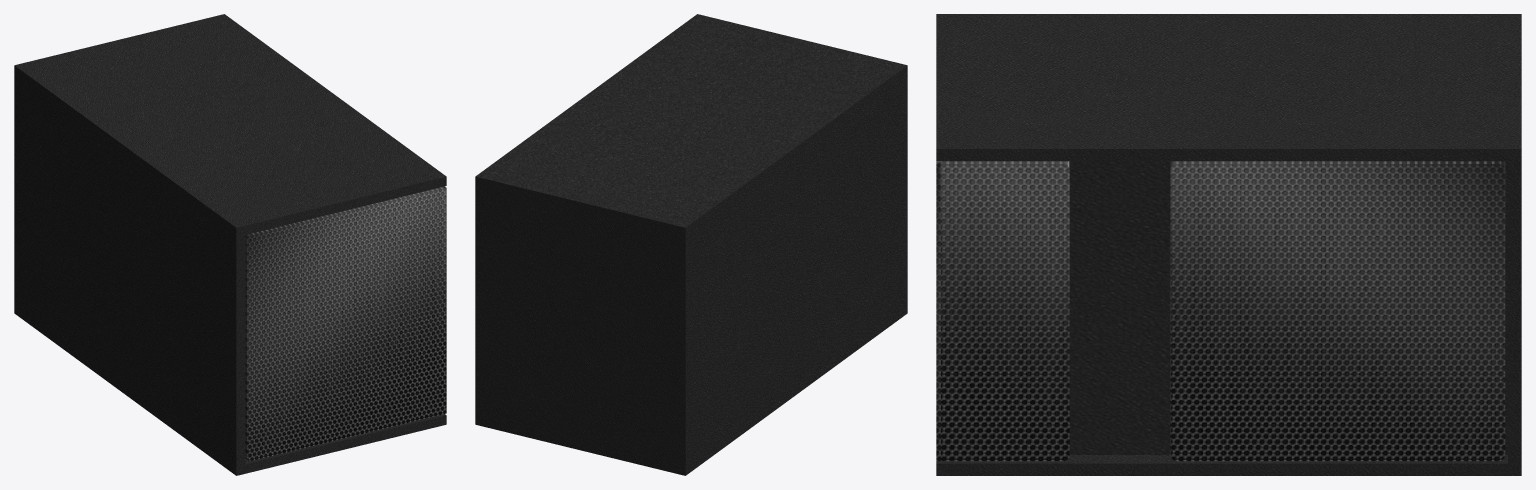
Rendered from Speaker1.fbx.
3 views of the same model, side by side, from view 1: azimuth 30°, elevation 25°; view 2: azimuth 150°, elevation 25°; view 3: azimuth 270°, elevation 25° (orthographic). The views are drawn at different scales.
Parts seen in each view (by area): view 1: Empty_Mesh; view 2: Empty_Mesh; view 3: Empty_Mesh.
Part boxes in pixels (x1=…): Empty_Mesh: x1=14, y1=14, x2=446, y2=475; Empty_Mesh: x1=475, y1=14, x2=907, y2=475; Empty_Mesh: x1=936, y1=14, x2=1521, y2=475.
Size of the model in its own units: 23.5 by 26.5 by 43.
